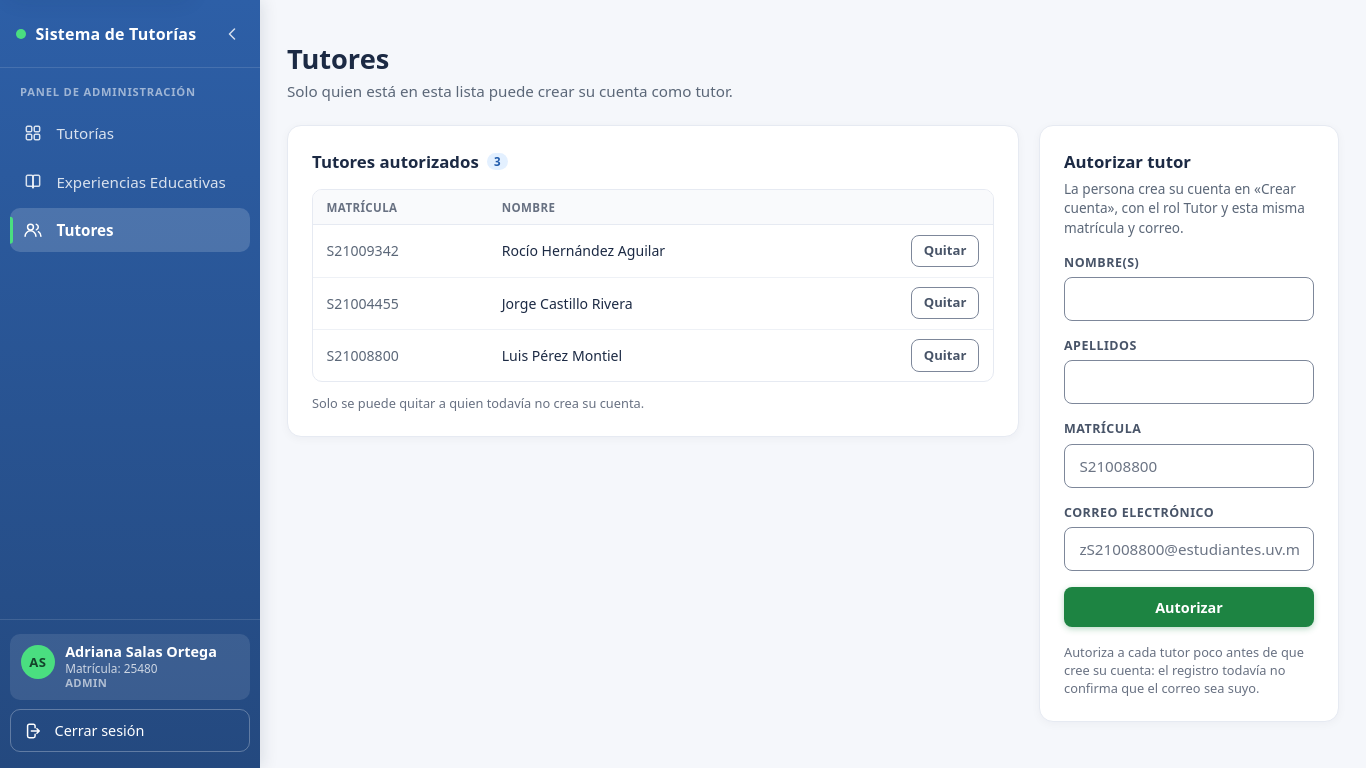
Test case: Tutores autorizados › quita un pre-registro tras confirmar y muestra el rechazo si ya creo su cuenta
This screenshot has width=1366, height=768.
Click the button with aria-label "Quitar la autorización de Rocío Hernández Aguilar".
click(945, 251)  # box [911, 235, 979, 267]
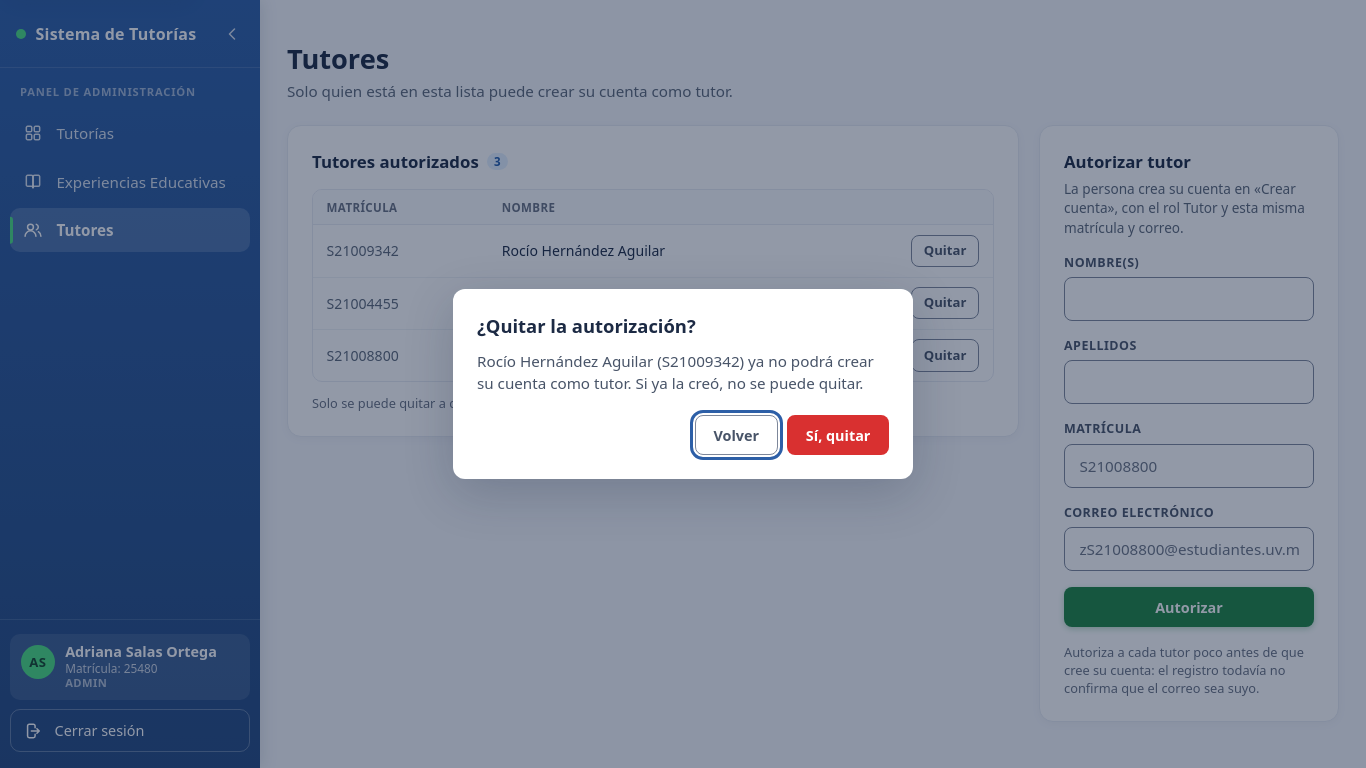
Click the button "Sí, quitar".
click(838, 435)  # box [787, 415, 889, 455]
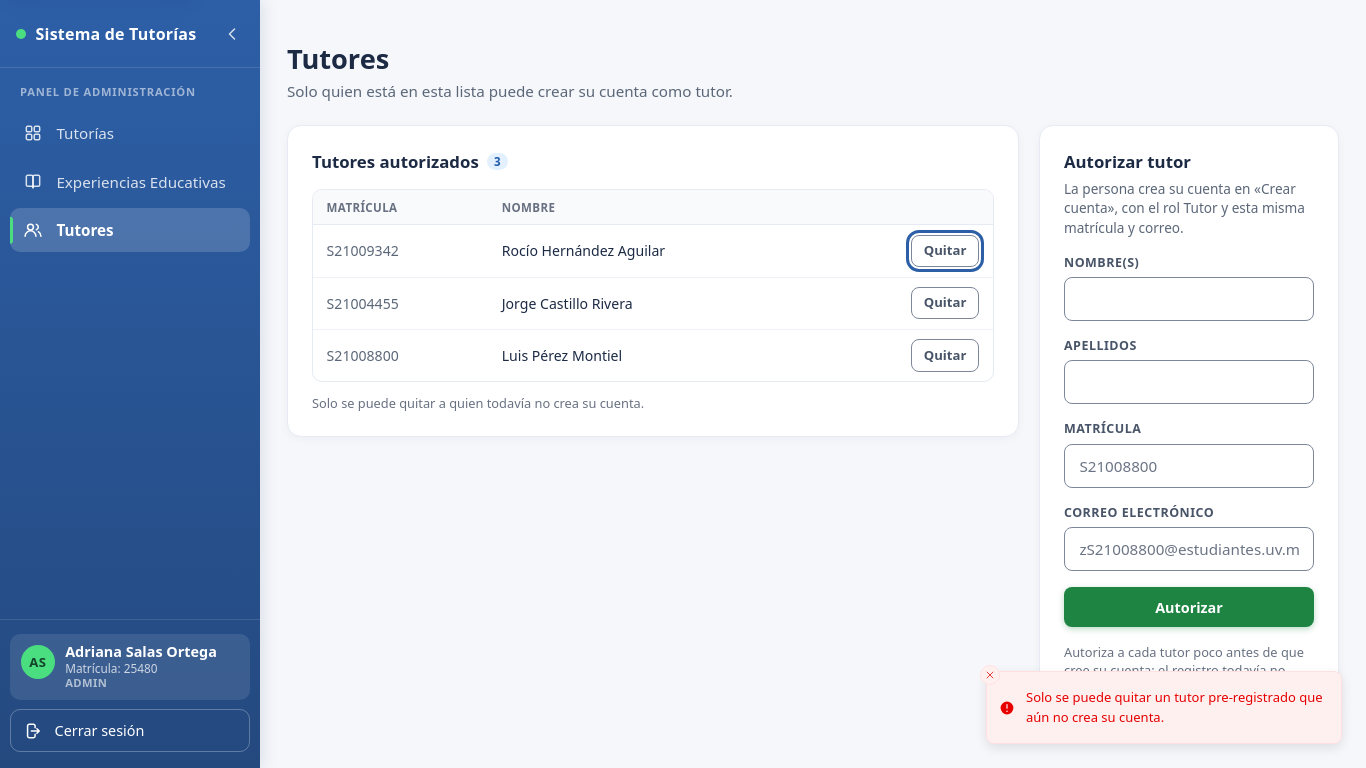
Now the text "Solo se puede quitar un tutor pre-registrado que aún no crea su cuenta." is shown, box [1026, 688, 1325, 727]
Click the button with aria-label "Quitar la autorización de Luis Pérez Montiel".
click(945, 355)  # box [911, 339, 979, 372]
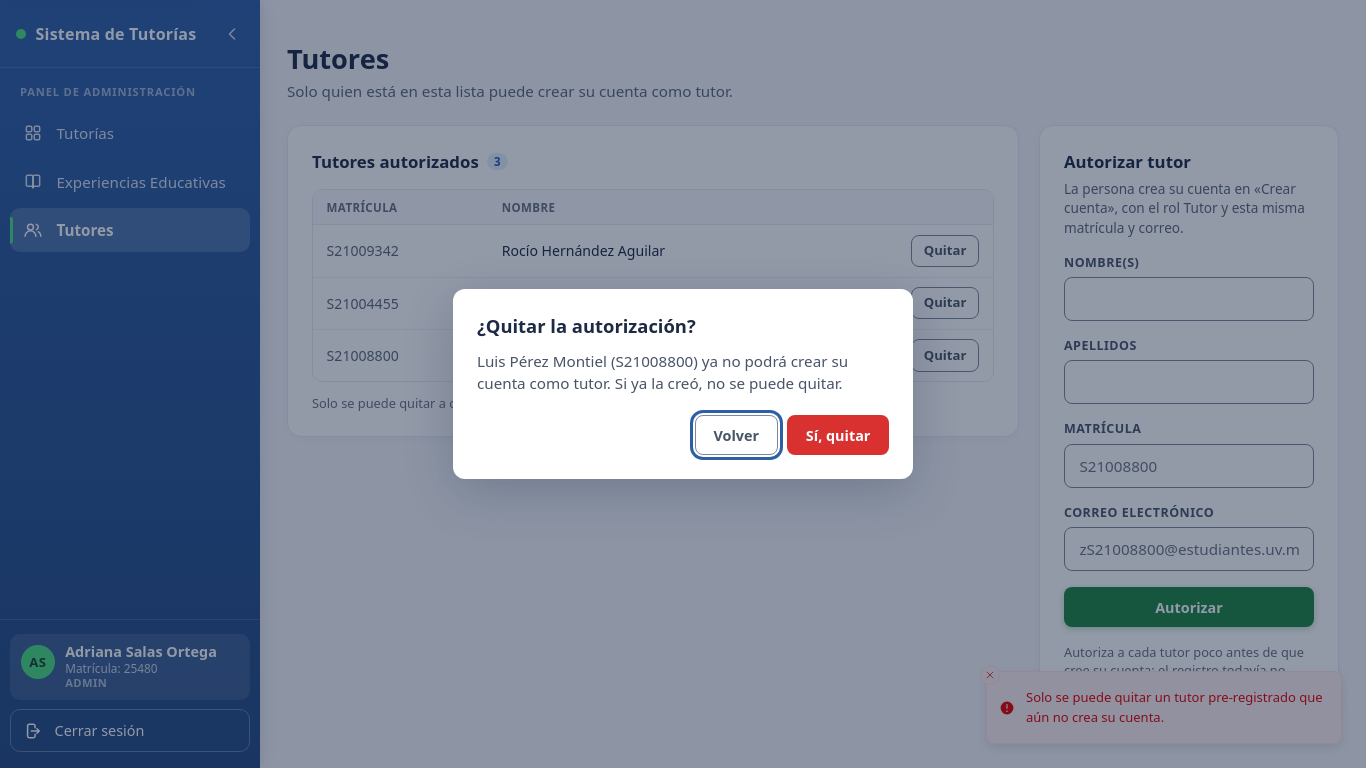
Click the button "Sí, quitar".
click(838, 435)  # box [787, 415, 889, 455]
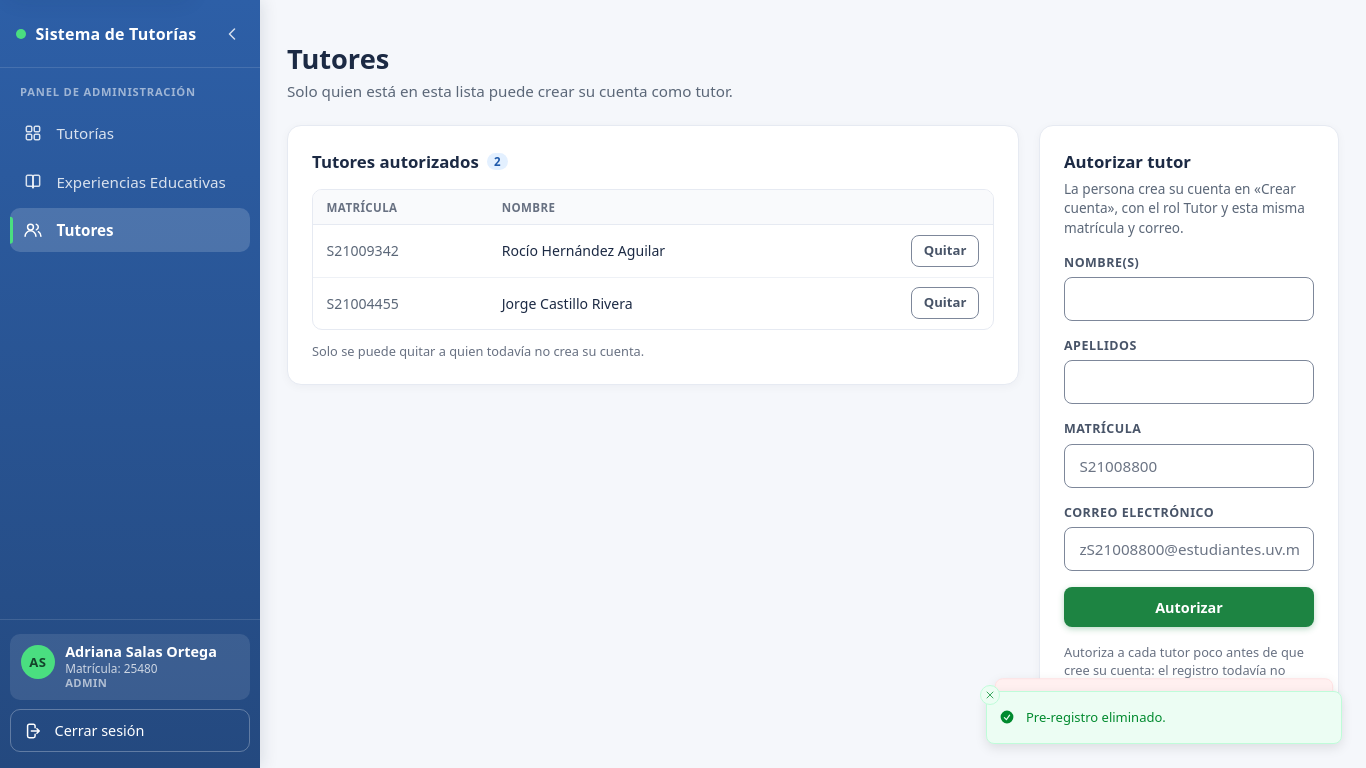
Now the text "Pre-registro eliminado." is shown, box [1026, 708, 1166, 727]
Now the column heading "Luis Pérez Montiel" is gone
